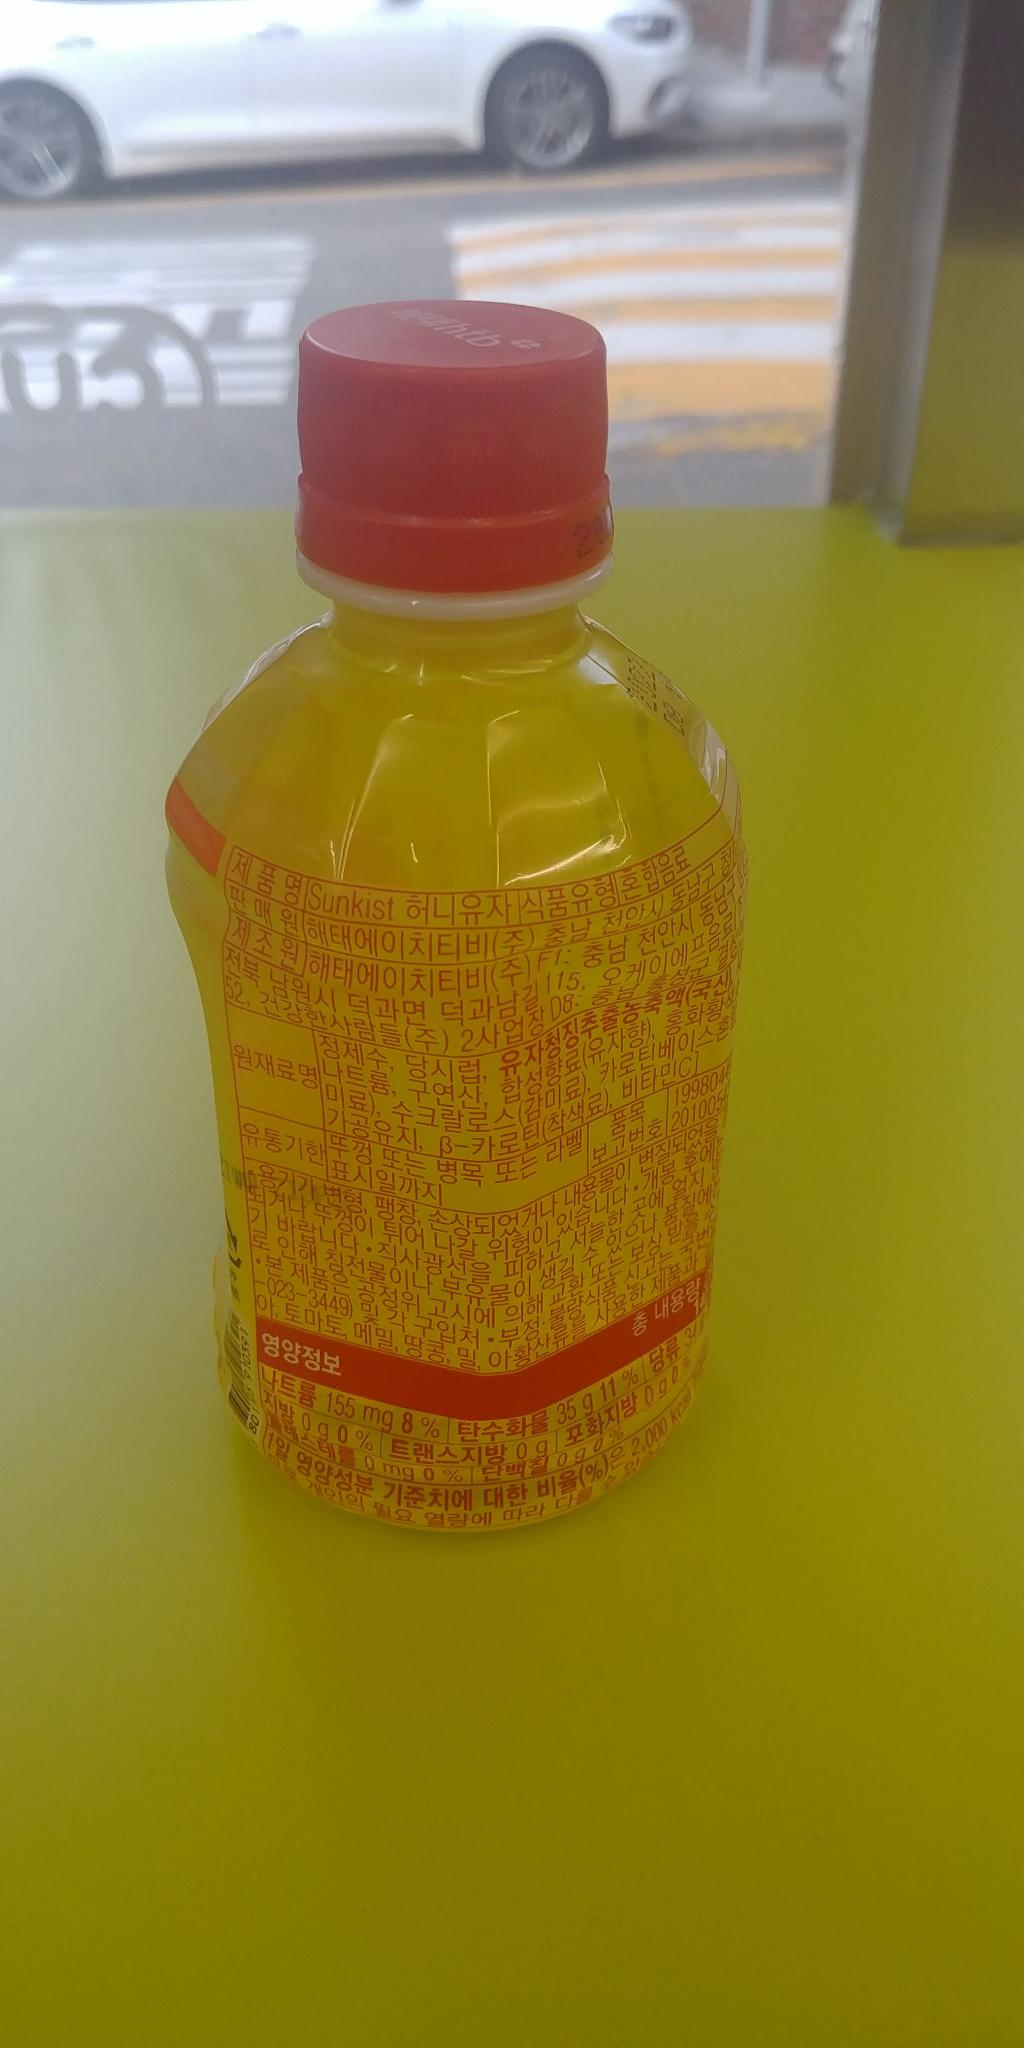honeyyuja: (132, 280, 760, 1550)
